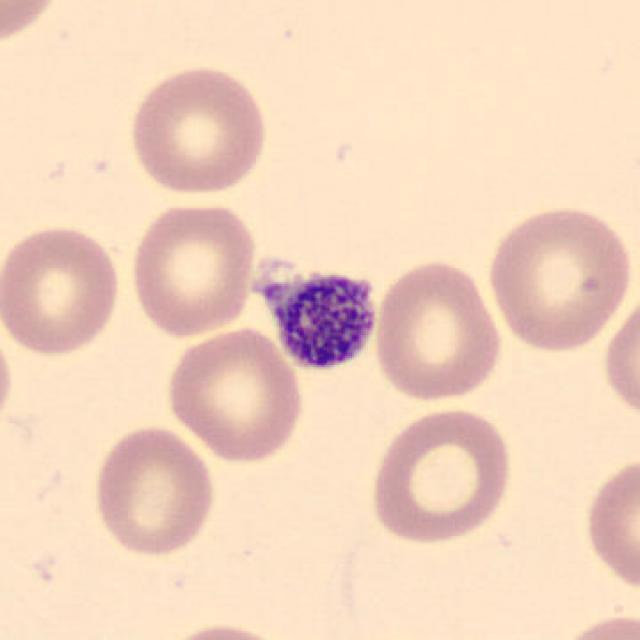Platelets: (242, 245, 388, 379)
RBC: (482, 201, 634, 354), (326, 517, 508, 638), (366, 404, 516, 546), (124, 60, 272, 199), (162, 324, 306, 466), (369, 256, 506, 404), (124, 198, 260, 340), (89, 421, 219, 559), (0, 220, 126, 360), (579, 451, 640, 597), (599, 287, 640, 427), (0, 0, 66, 48), (155, 619, 297, 640), (551, 610, 640, 640), (0, 316, 18, 439)
